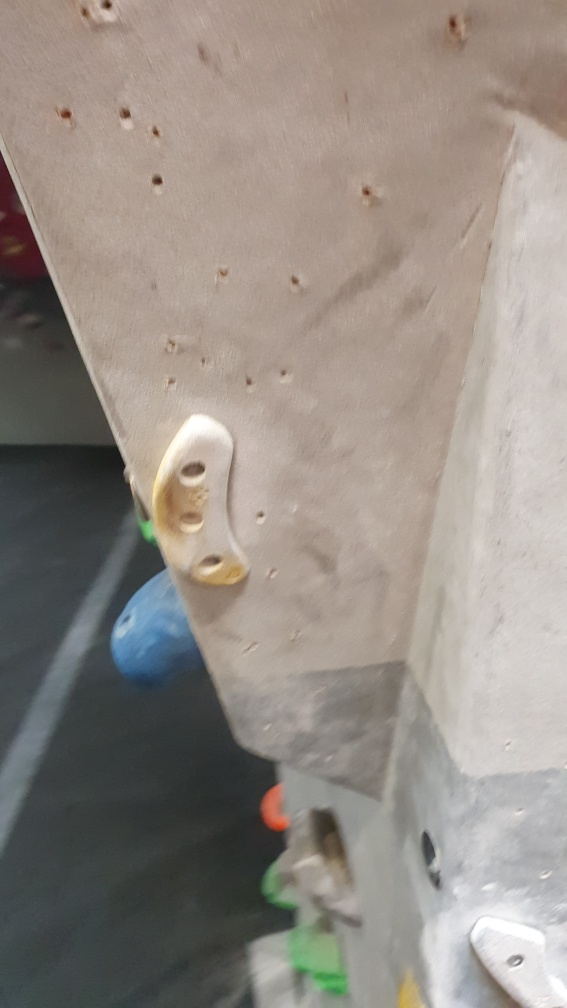Crimp: (146, 410, 257, 593)
Hand Start: (418, 827, 443, 893)
Jug: (279, 798, 362, 930)
Sloper: (107, 569, 205, 695)
